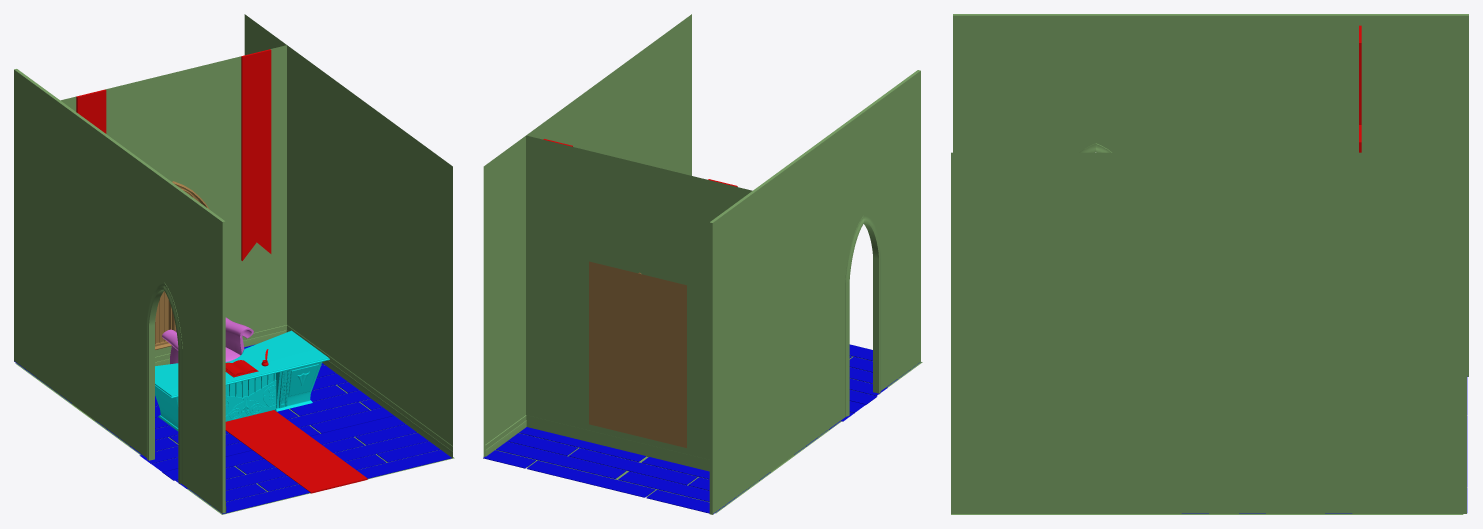
Rendered from elonsOffice_unwrapped5.fbx.
3 renders of one model, left to right at view 1: azimuth 30°, elevation 25°; view 2: azimuth 150°, elevation 25°; view 3: azimuth 270°, elevation 25°, orthographic. The views are drawn at different scales.
Parts seen in each view (by area): view 1: elonsOffixe_WallsAndDoorframe_Geo, floorBoards_geo, elonsDesk_geo, elonBanner_R_geo, redCarpet_geo, elonsThrone_geo, elonBanner_L_geo, elonsOfficeWIndow_geo, windowBackdrop; view 2: elonsOffixe_WallsAndDoorframe_Geo, windowBackdrop, floorBoards_geo; view 3: elonsOffixe_WallsAndDoorframe_Geo.
Part boxes in pixels (x1,y1,x2,y2): elonsOffixe_WallsAndDoorframe_Geo: (14,14,454,514); floorBoards_geo: (14,344,451,514); elonsDesk_geo: (155,330,329,431); elonBanner_R_geo: (241,49,271,260); redCarpet_geo: (225,410,367,493); elonsThrone_geo: (162,317,253,364); elonBanner_L_geo: (76,89,106,133); elonsOfficeWIndow_geo: (155,181,209,349); windowBackdrop: (156,198,197,342); elonsOffixe_WallsAndDoorframe_Geo: (483,14,922,514); windowBackdrop: (589,261,686,447); floorBoards_geo: (483,344,918,514); elonsOffixe_WallsAndDoorframe_Geo: (951,14,1468,514).
Size of the model in its own units: 39.6 by 47.18 by 61.22.
